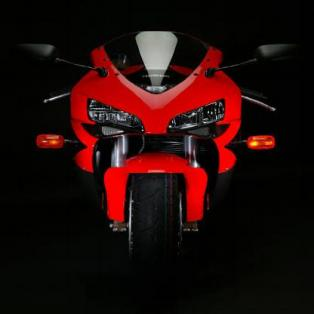Motocicleta: (18, 28, 289, 271)
